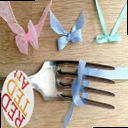fork: (19, 51, 122, 109)
